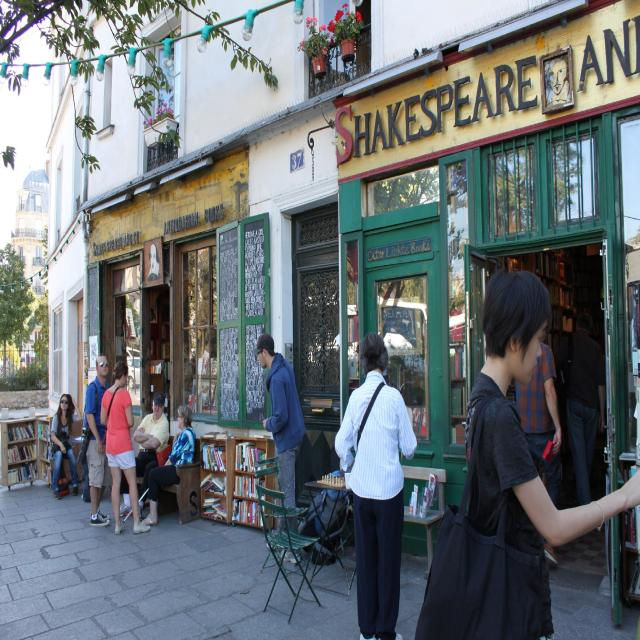body: (412, 266, 640, 640), (333, 329, 418, 639), (251, 332, 307, 566), (513, 321, 562, 566), (554, 311, 606, 506), (100, 359, 152, 535), (137, 403, 197, 529), (76, 352, 114, 528), (119, 390, 170, 520), (49, 392, 83, 502), (143, 242, 162, 283), (0, 362, 28, 384)
